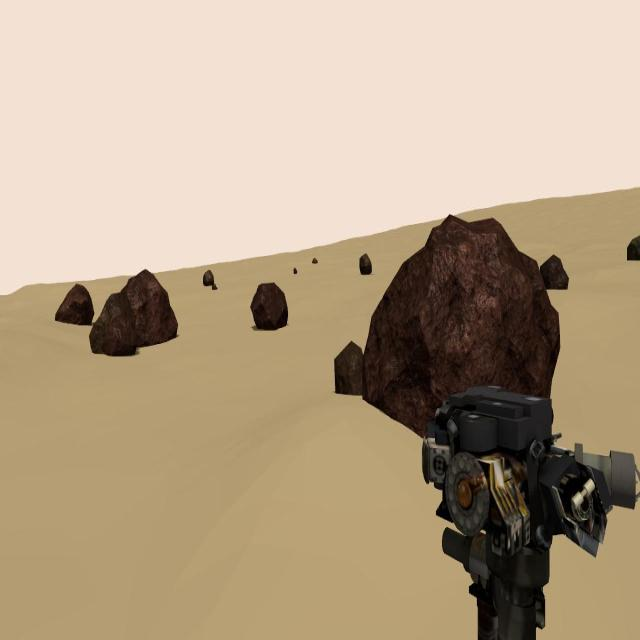rock: (365, 212, 560, 436), (120, 269, 178, 345), (90, 293, 137, 357), (250, 282, 289, 332), (334, 340, 364, 396), (56, 283, 94, 326), (540, 256, 568, 288), (627, 236, 640, 262), (359, 252, 372, 274), (203, 268, 214, 284), (211, 281, 217, 291), (312, 258, 318, 264), (292, 268, 298, 273)
